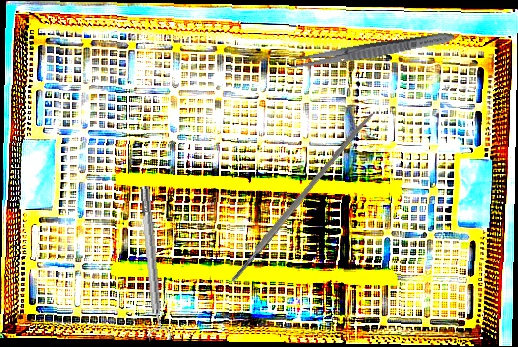Dressing Forceps: (284, 27, 457, 75)
Fixation Ring: (133, 185, 172, 342)
Scalpel Handle: (226, 109, 376, 286)
